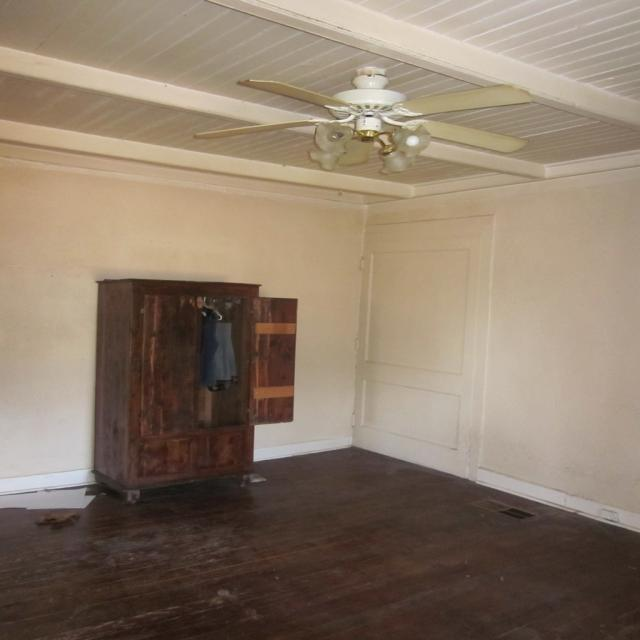fan_off: (193, 68, 532, 155)
